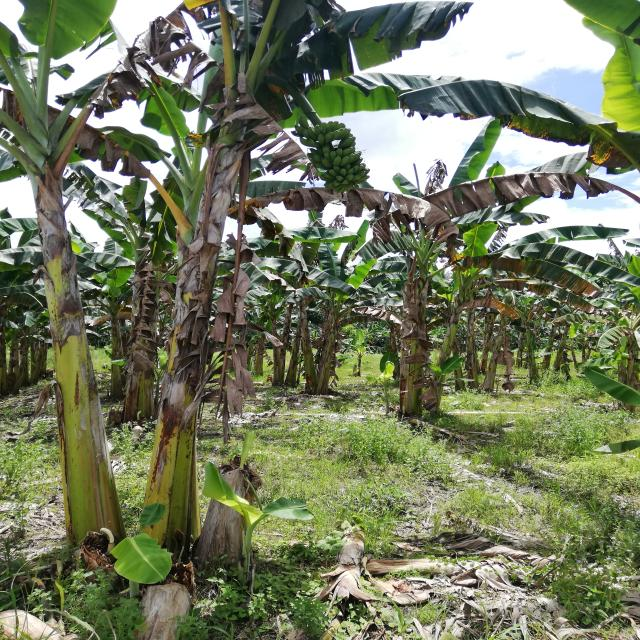Banana-plant: (0, 84, 113, 563), (138, 128, 248, 564), (399, 245, 428, 422)
